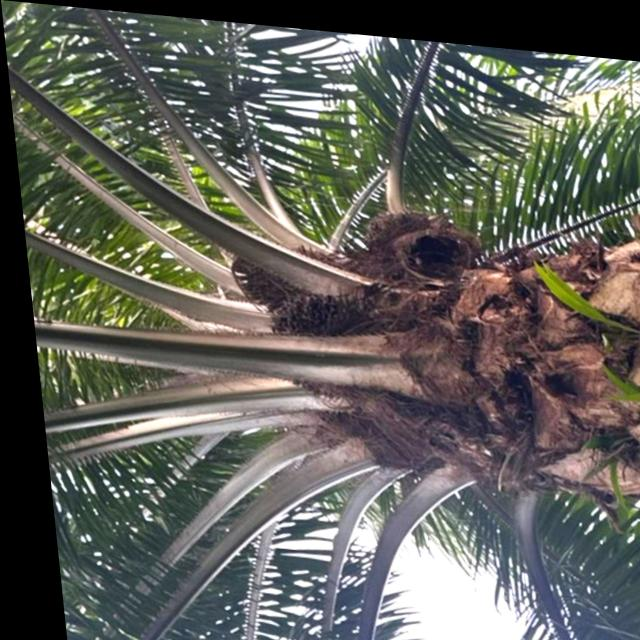almost: (257, 282, 386, 399)
